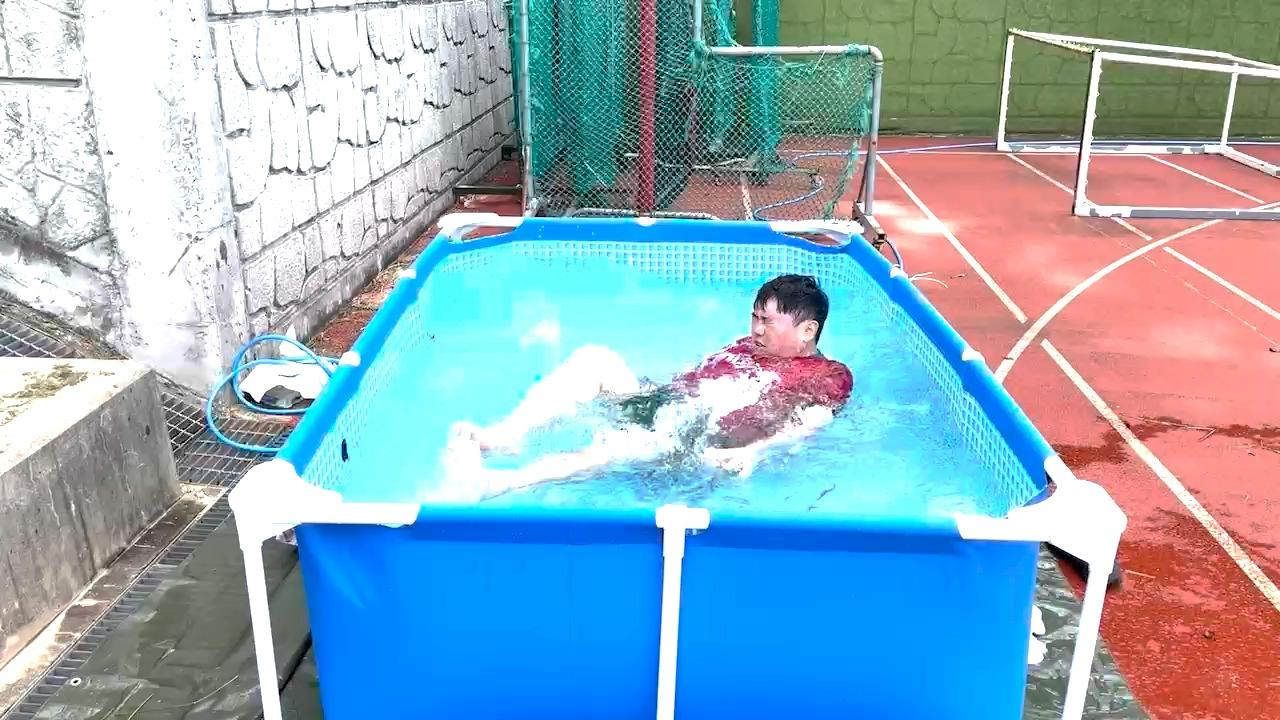Drowning: (457, 273, 850, 505)
